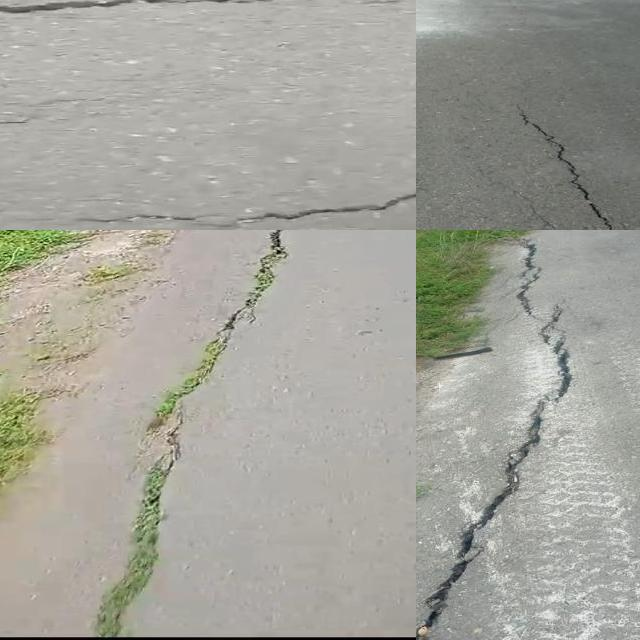Melintang: (50, 174, 416, 230), (0, 0, 415, 29)
Memanjang: (80, 230, 302, 640), (416, 325, 583, 640), (507, 96, 625, 230)
